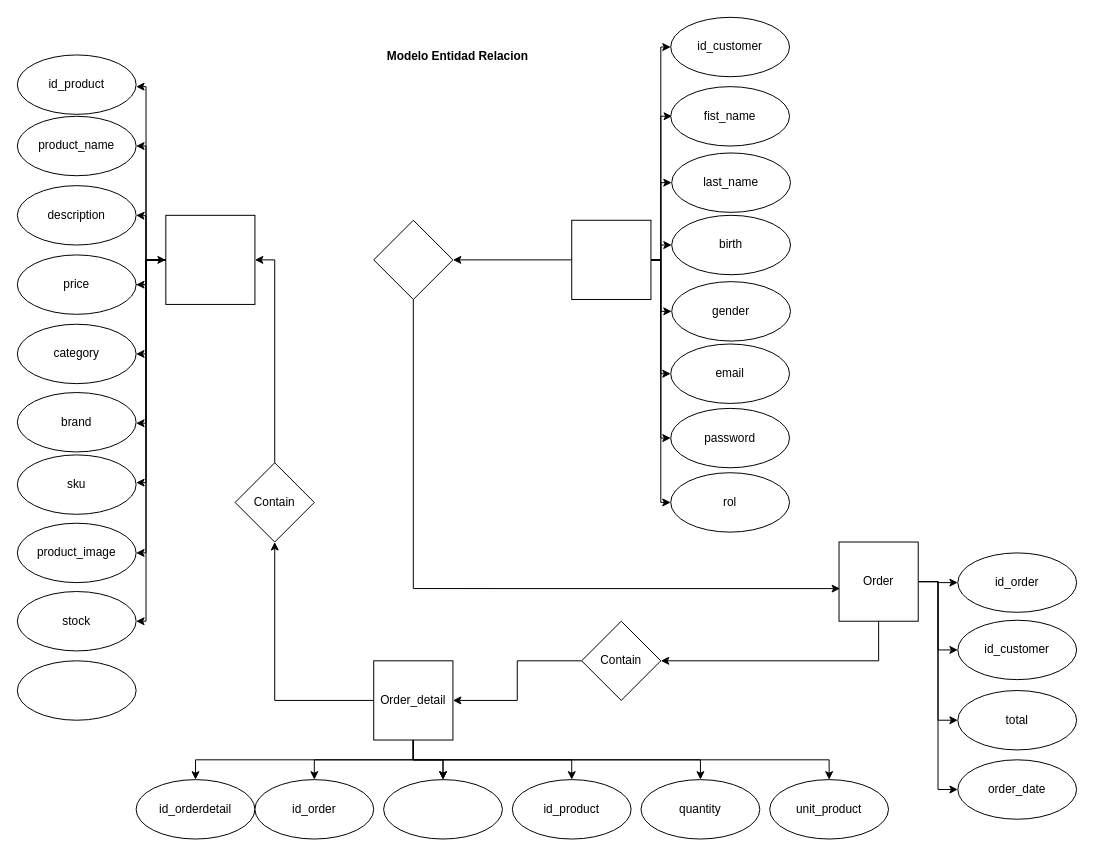
Image size: 1094x856. Some labels were removed from this diagram. Each missing label, with the centre of its shape:
avaliable: (x=76, y=690)
Customer: (x=611, y=259)
Make: (x=413, y=259)
order_number: (x=442, y=809)
Product: (x=210, y=259)
